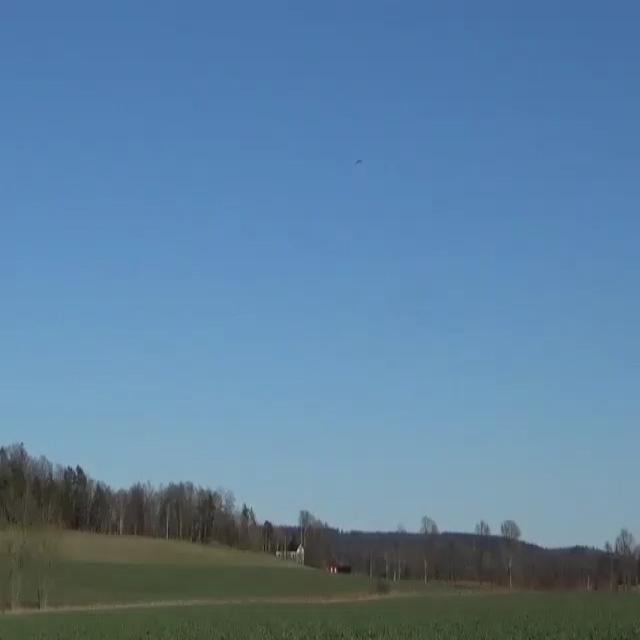drone: (354, 159, 364, 165)
